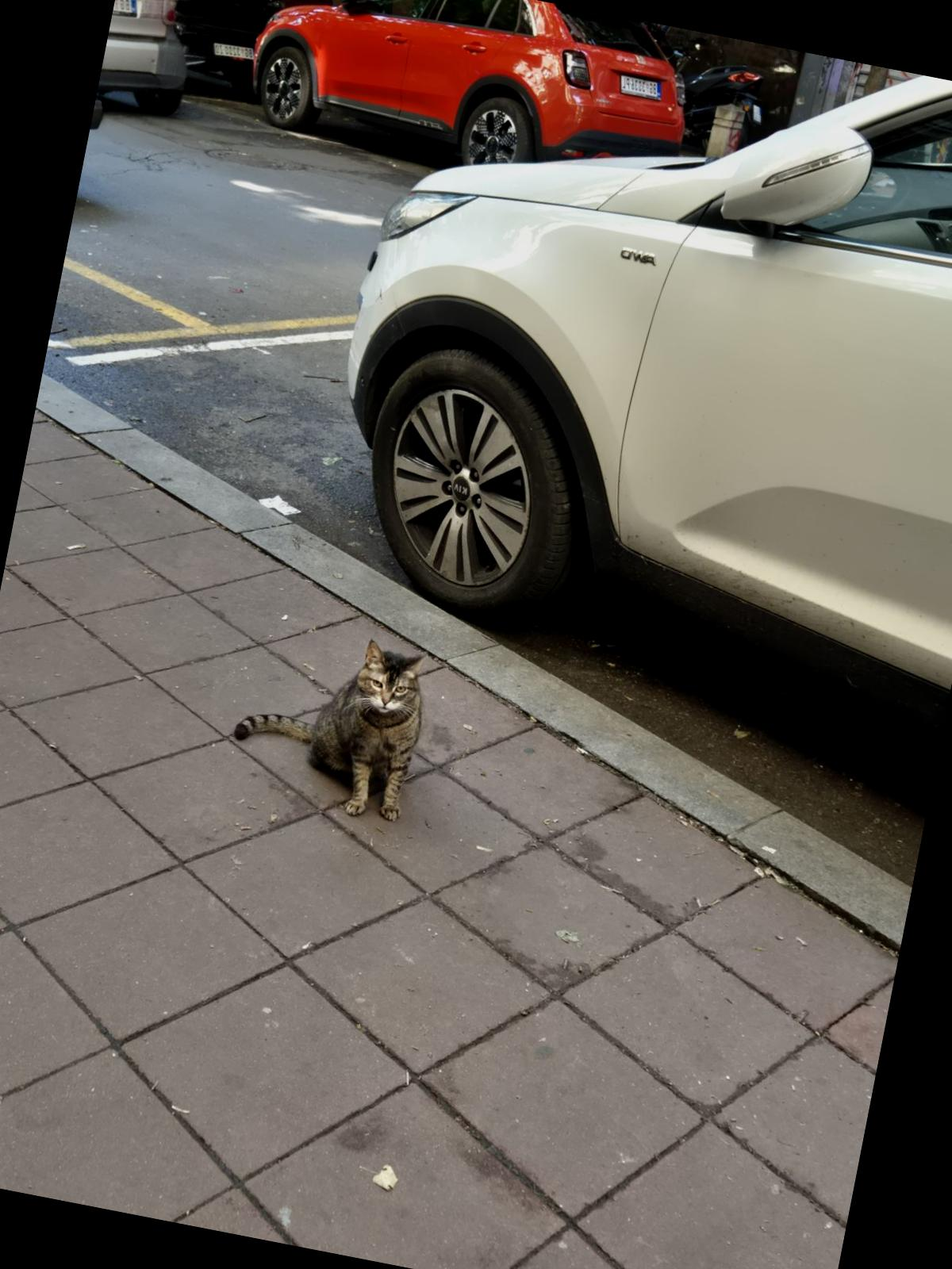macka: (221, 615, 436, 826)
